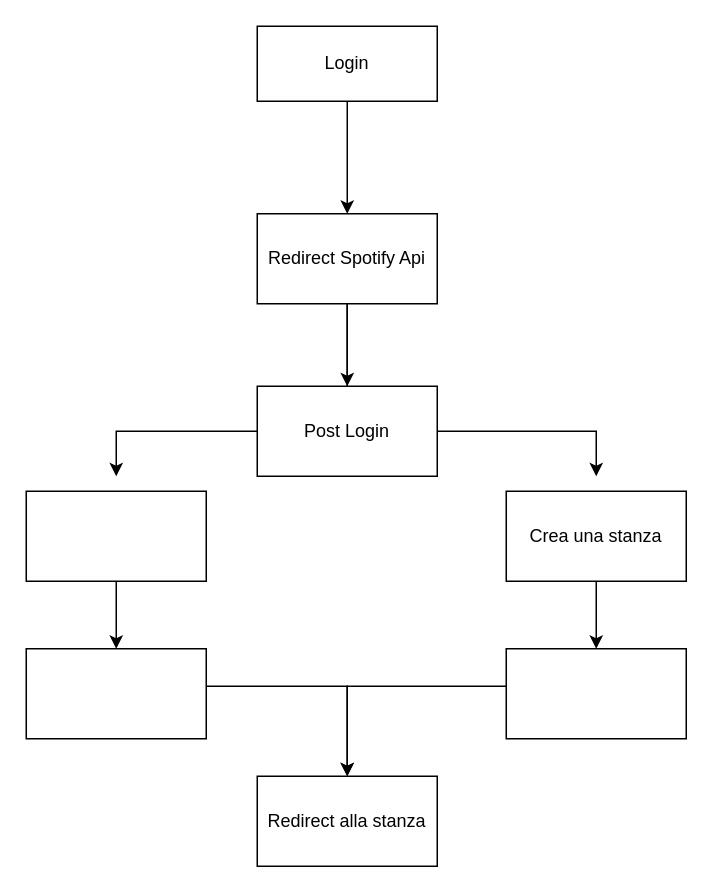
This 713x893 diagram has some shape labels left out. The shapes that lost their labels are listed below. From the top down, each one's box as (x1, y1, x2, y2) in pixels, then its label:
(25, 490, 206, 581): Entra in una stanza
(25, 647, 206, 739): Inserire codice della stanza
(505, 647, 686, 739): Creazione della stanza
